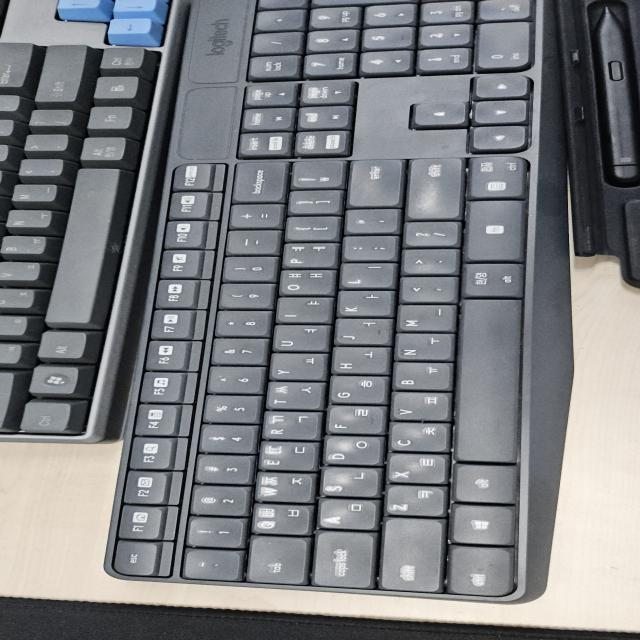Keyboard: (3, 0, 635, 609)
